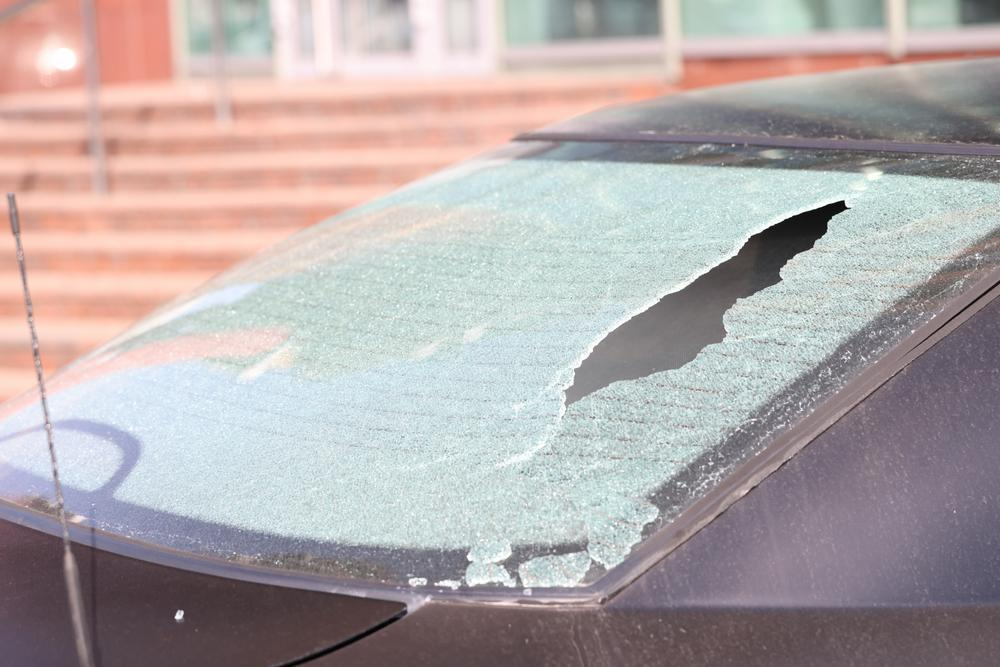glass shatter: (0, 141, 1000, 589)
